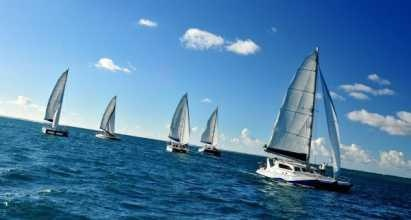fanchuan: (257, 47, 364, 182), (36, 69, 76, 144), (162, 96, 193, 156), (94, 89, 127, 144), (198, 107, 223, 157)
